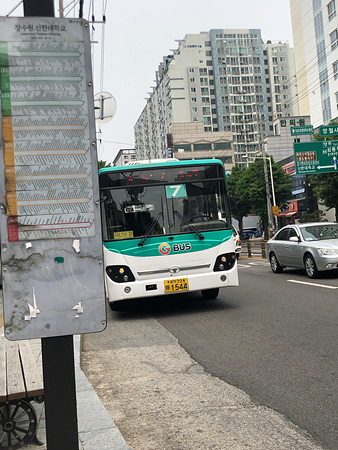bnum: (166, 183, 184, 198)
